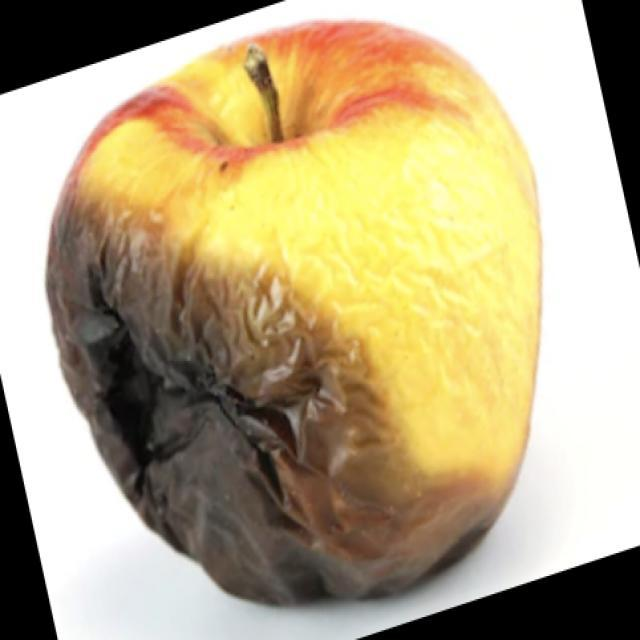Rotten: (62, 27, 543, 600)
